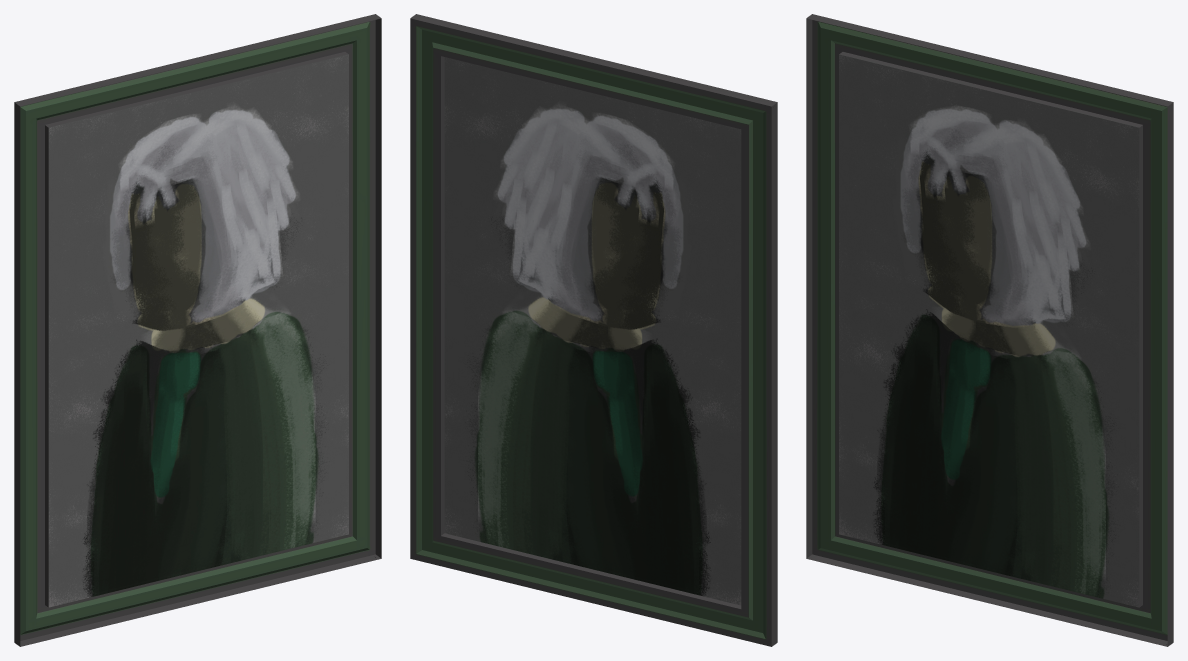
The model's file is Painting_Portrait.fbx.
3 renders of one model, left to right at view 1: azimuth 30°, elevation 25°; view 2: azimuth 150°, elevation 25°; view 3: azimuth 330°, elevation 25°, orthographic.
Visible parts, largest first — view 1: Portrait; view 2: Portrait; view 3: Portrait.
Part boxes in pixels (left/top/right/bottom): Portrait: left=14, top=14, right=381, bottom=646; Portrait: left=410, top=14, right=777, bottom=646; Portrait: left=806, top=14, right=1173, bottom=646.
Bounding box in the file's own units: 35 × 50 × 1.
